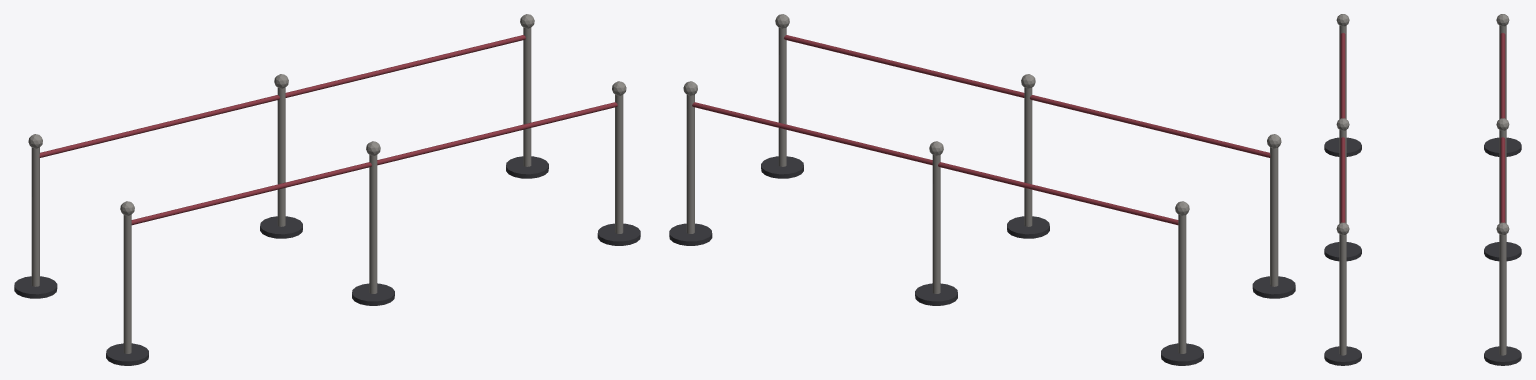
The model's file is Unifila.fbx.
3 renders of one model, left to right at view 1: azimuth 30°, elevation 25°; view 2: azimuth 150°, elevation 25°; view 3: azimuth 270°, elevation 25°, orthographic. The views are drawn at different scales.
Parts seen in each view (by area): view 1: Unifila; view 2: Unifila; view 3: Unifila.
Boxes of the visible parts, x1=… form: Unifila: x1=14, y1=14, x2=640, y2=365; Unifila: x1=669, y1=14, x2=1295, y2=365; Unifila: x1=1324, y1=14, x2=1521, y2=365.
Size of the model in its own units: 3.66 by 1.02 by 1.36.
